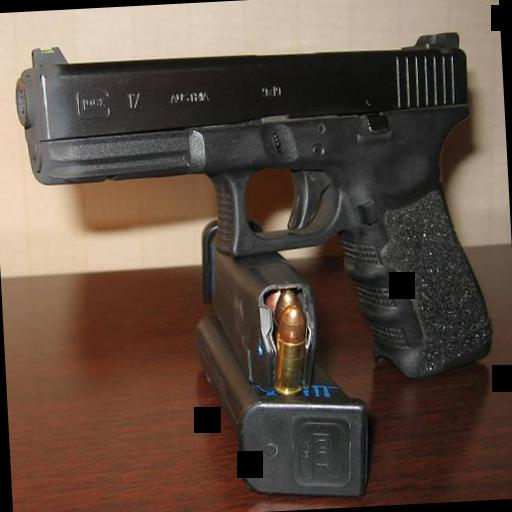Handgun: (6, 14, 494, 398)
